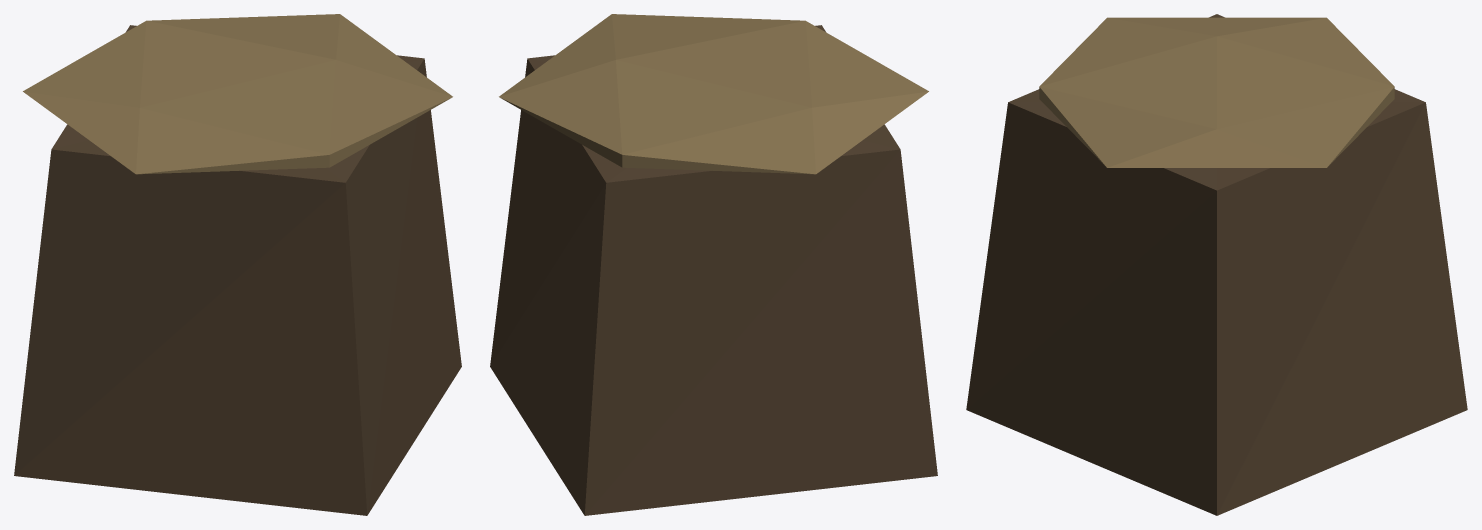
Rendered from tree_stump-far.glb.
3 views of the same model, side by side, from view 1: azimuth 30°, elevation 25°; view 2: azimuth 150°, elevation 25°; view 3: azimuth 270°, elevation 25° (orthographic). The views are drawn at different scales.
Visible parts, largest first — view 1: world-scenery/tree_stump-far; view 2: world-scenery/tree_stump-far; view 3: world-scenery/tree_stump-far.
Part boxes in pixels (x1=…): world-scenery/tree_stump-far: x1=14, y1=14, x2=461, y2=515; world-scenery/tree_stump-far: x1=490, y1=14, x2=937, y2=515; world-scenery/tree_stump-far: x1=966, y1=14, x2=1467, y2=515.
Bounding box in the file's own units: 0.96 × 0.6913 × 0.96.
